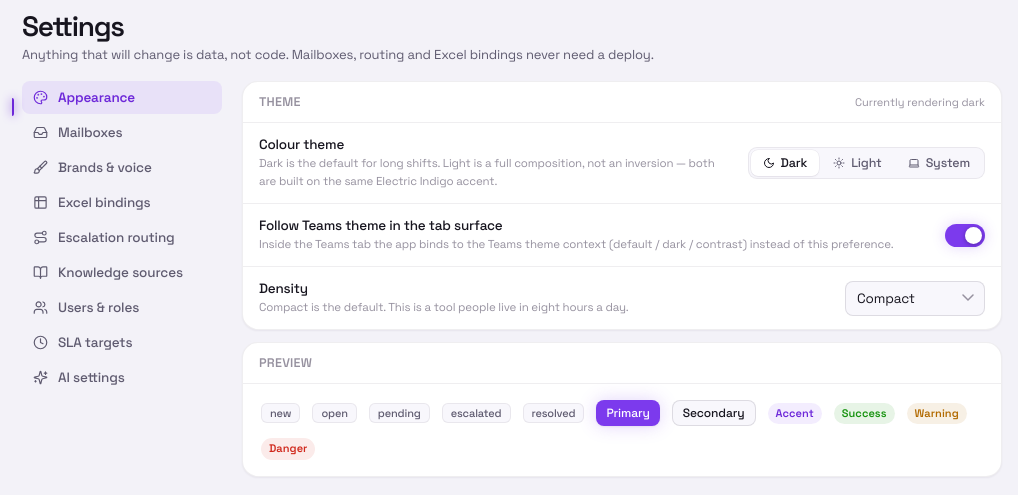
Test: Settings in live mode › fetches brands from the API
Click the button "Brands & voice" at (122, 168), box [22,151,222,184]
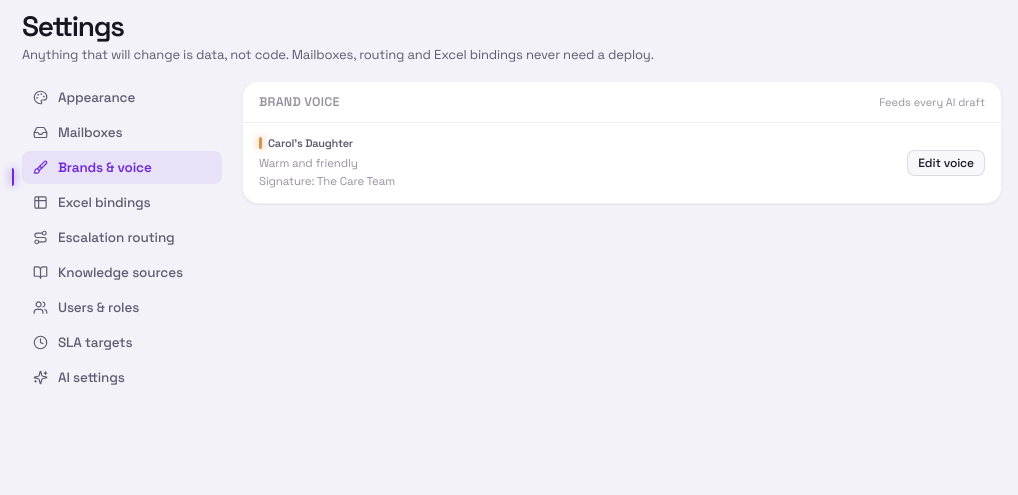
Result: the text "Carol's Daughter" is shown at [259,136,353,150]
Result: the text "Warm and friendly" is shown at [259,156,358,170]
